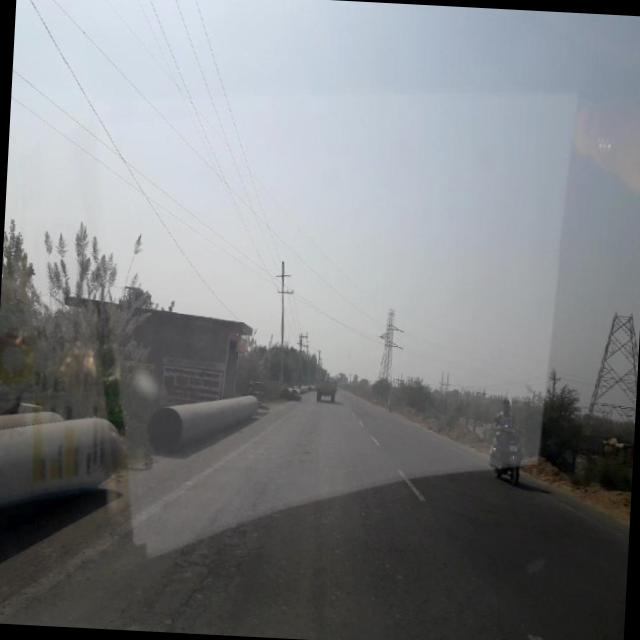pothole: (145, 506, 256, 630)
